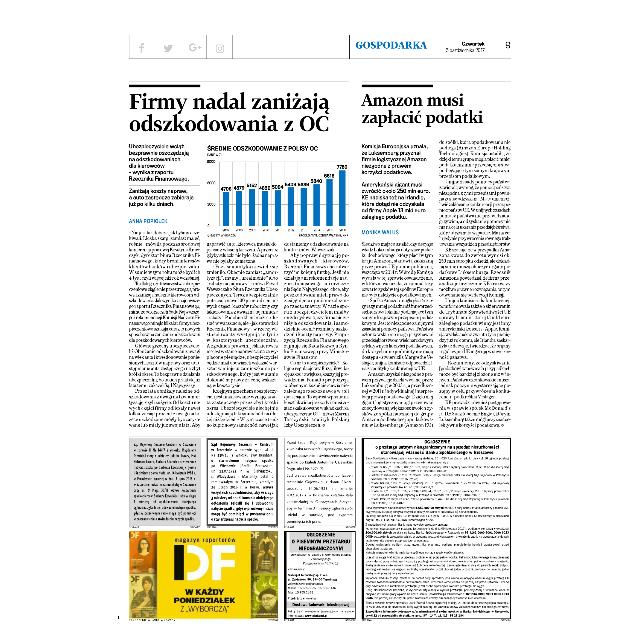article: (126, 83, 352, 430), (360, 82, 516, 430)
